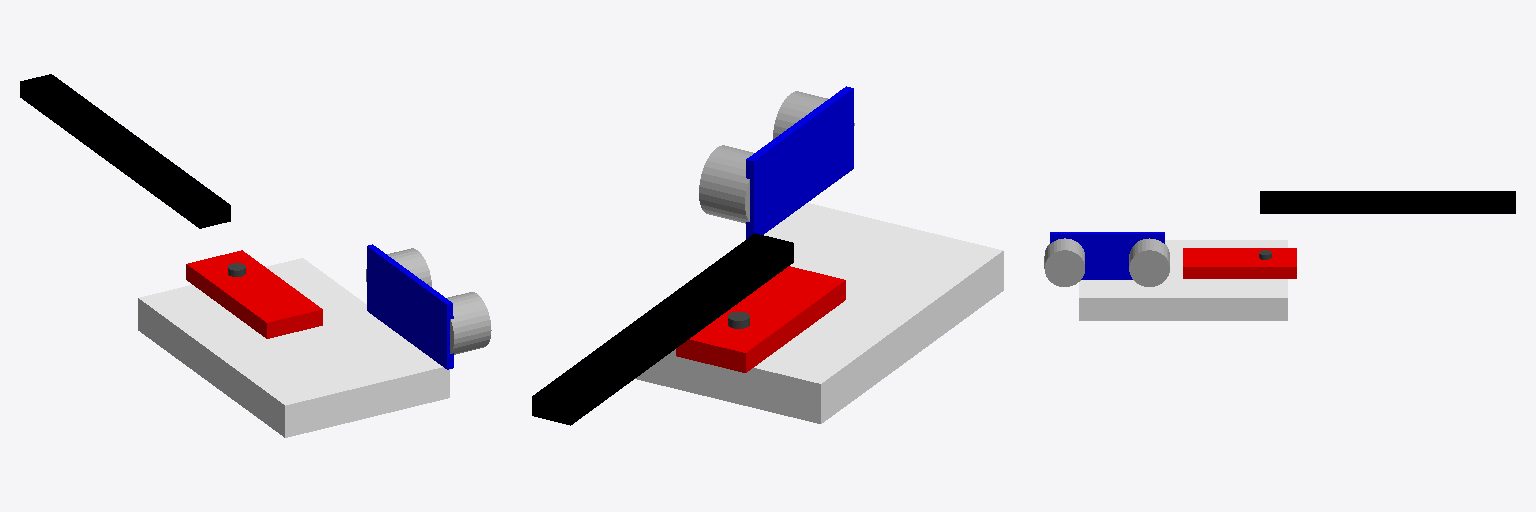
robot.urdf — robot:
<?xml version="1.0"?>
<robot name="robot">
  <link name="base_link">
    <inertial>
      <mass value="0.001"/>
      <origin xyz="0 0 0" rpy="0 0 0"/>
      <inertia ixx="1e-6" ixy="0" ixz="0" iyy="1e-6" iyz="0" izz="1e-6"/>
    </inertial>
  </link>

  <link name="breadboard_link">
    <visual>
      <origin xyz="0 0 0" rpy="0 0 0"/>
      <geometry>
        <box size="0.053 0.082 0.01"/>
      </geometry>
      <material name="white">
        <color rgba="1 1 1 1"/>
      </material>
    </visual>
    <collision>
      <origin xyz="0 0 0" rpy="0 0 0"/>
      <geometry>
        <box size="0.053 0.082 0.01"/>
      </geometry>
    </collision>
    <inertial>
      <mass value="0.05"/>
      <origin xyz="0 0 0" rpy="0 0 0"/>
      <inertia ixx="0.0001" ixy="0" ixz="0" iyy="0.0001" iyz="0" izz="0.0001"/>
    </inertial>
  </link>

  <joint name="base_to_breadboard" type="fixed">
    <parent link="base_link"/>
    <child link="breadboard_link"/>
    <origin xyz="0 0 0.005" rpy="0 0 0"/>
  </joint>

  <link name="motor_link">
    <visual>
      <origin xyz="0 0 0" rpy="0 0 1.57"/>
      <geometry>
        <mesh filename="package://mechatrobot_ros2/urdf/28BYJ-48.STL" scale="0.001 0.001 0.001" />
      </geometry>
      <material name="silver">
        <color rgba="0.75 0.75 0.75 1"/>
      </material>
    </visual>
    <collision>
      <origin xyz="0 0 0" rpy="0 0 0"/>
      <geometry>
        <cylinder radius="0.014" length="0.019"/>
      </geometry>
    </collision>
    <inertial>
      <mass value="0.03"/>
      <origin xyz="0 0 0" rpy="0 0 0"/>
      <inertia ixx="0.00001" ixy="0" ixz="0" iyy="0.00001" iyz="0" izz="0.00001"/>
    </inertial>
  </link>

  <link name="link1">
    <visual>
      <origin xyz="0 0 0" rpy="0 0 0" />
      <geometry>
        <box size="0.01 0.1 0.005"/>
      </geometry>
      <material name="black">
        <color rgba="0 0 0 1"/>
      </material>
    </visual>
    <collision>
      <origin xyz="0 0 0" rpy="0 0 0" />
      <geometry>
        <box size="0.01 0.1 0.005"/>
      </geometry>
    </collision>
    <inertial>
      <mass value="0.01"/>
      <origin xyz="0 0 0" rpy="0 0 0"/>
      <inertia ixx="0.00001" ixy="0" ixz="0" iyy="0.00001" iyz="0" izz="0.00001"/>
    </inertial>
  </link>

  <link name="range_sensor">
    <visual>
      <origin xyz="0 0 0" rpy="1.57 0 1.57" />
      <geometry>
        <box size="0.045 0.020 0.002"/>
      </geometry>
      <material name="blue">
        <color rgba="0 0 1 1"/>
      </material>
    </visual>
    <collision>
      <origin xyz="0 0 0" rpy="1.57 0 1.57" />
      <geometry>
        <box size="0.045 0.020 0.002"/>
      </geometry>
    </collision>
    <inertial>
      <mass value="0.005"/>
      <origin xyz="0 0 0" rpy="0 0 0"/>
      <inertia ixx="0.000001" ixy="0" ixz="0" iyy="0.000001" iyz="0" izz="0.000001"/>
    </inertial>
  </link>

  <link name="range_sensor_left_transducer">
    <visual>
      <origin xyz="0 0 0" rpy="0 1.57 0" />
      <geometry>
        <cylinder radius="0.008" length="0.012"/>
      </geometry>
      <material name="silver">
        <color rgba="0.75 0.75 0.75 1"/>
      </material>
    </visual>
    <collision>
      <origin xyz="0 0 0" rpy="0 1.57 0" />
      <geometry>
        <cylinder radius="0.008" length="0.012"/>
      </geometry>
    </collision>
    <inertial>
      <mass value="0.001"/>
      <origin xyz="0 0 0" rpy="0 0 0"/>
      <inertia ixx="0.0000001" ixy="0" ixz="0" iyy="0.0000001" iyz="0" izz="0.0000001"/>
    </inertial>
  </link>

  <link name="range_sensor_right_transducer">
    <visual>
      <origin xyz="0 0 0" rpy="0 1.57 0" />
      <geometry>
        <cylinder radius="0.008" length="0.012"/>
      </geometry>
      <material name="silver">
        <color rgba="0.75 0.75 0.75 1"/>
      </material>
    </visual>
    <collision>
      <origin xyz="0 0 0" rpy="0 1.57 0" />
      <geometry>
        <cylinder radius="0.008" length="0.012"/>
      </geometry>
    </collision>
    <inertial>
      <mass value="0.001"/>
      <origin xyz="0 0 0" rpy="0 0 0"/>
      <inertia ixx="0.0000001" ixy="0" ixz="0" iyy="0.0000001" iyz="0" izz="0.0000001"/>
    </inertial>
  </link>

  <link name="arduino_nano">
    <visual>
      <origin xyz="0 0 0" rpy="0 0 0" />
      <geometry>
        <box size="0.045 0.018 0.005"/>
      </geometry>
      <material name="arduino_red">
        <color rgba="1 0 0 1"/>
      </material>
    </visual>
    <collision>
      <origin xyz="0 0 0" rpy="0 0 0" />
      <geometry>
        <box size="0.045 0.018 0.005"/>
      </geometry>
    </collision>
    <inertial>
      <mass value="0.005"/>
      <origin xyz="0 0 0" rpy="0 0 0"/>
      <inertia ixx="0.000001" ixy="0" ixz="0" iyy="0.000001" iyz="0" izz="0.000001"/>
    </inertial>
  </link>

  <link name="led">
    <visual>
      <origin xyz="0 0 0" rpy="0 0 0" />
      <geometry>
        <cylinder radius="0.0025" length="0.002"/>
      </geometry>
      <material name="led_off">
        <color rgba="0.3 0.3 0.3 1"/>
      </material>
    </visual>
    <collision>
      <origin xyz="0 0 0" rpy="0 0 0" />
      <geometry>
        <cylinder radius="0.0025" length="0.002"/>
      </geometry>
    </collision>
    <inertial>
      <mass value="0.0001"/>
      <origin xyz="0 0 0" rpy="0 0 0"/>
      <inertia ixx="0.00000001" ixy="0" ixz="0" iyy="0.00000001" iyz="0" izz="0.00000001"/>
    </inertial>
  </link>

  <joint name="base_to_motor" type="fixed">
    <parent link="breadboard_link" />
    <child link="motor_link" />
    <origin xyz="0 0.08 0" rpy="0 0 0" />
  </joint>

  <joint name="base_to_sensor" type="fixed">
    <parent link="breadboard_link" />
    <child link="range_sensor" />
    <origin xyz="0.02 -0.03 0.02" />
  </joint>

  <joint name="sensor_to_left_transducer" type="fixed">
    <parent link="range_sensor" />
    <child link="range_sensor_left_transducer" />
    <origin xyz="0.006 0.0166 0" rpy="0 0 0" />
  </joint>

  <joint name="sensor_to_right_transducer" type="fixed">
    <parent link="range_sensor" />
    <child link="range_sensor_right_transducer" />
    <origin xyz="0.006 -0.0166 0" rpy="0 0 0" />
  </joint>

  <joint name="breadboard_to_arduino" type="fixed">
    <parent link="breadboard_link" />
    <child link="arduino_nano" />
    <origin xyz="0 0.022 0.0075" rpy="0 0 1.57" />
  </joint>

  <joint name="arduino_to_led" type="fixed">
    <parent link="arduino_nano" />
    <child link="led" />
    <origin xyz="0.01 0 0.0035" rpy="0 0 0" />
  </joint>

  <joint name="joint1" type="revolute">
    <axis xyz="0 0 -1"/>
    <limit effort="1000.0" lower="-3.14" upper="3.14" velocity="0.5"/>
    <origin xyz="-0.008 0 0.03" />
    <parent link="motor_link" />
    <child link="link1" />
    <dynamics damping="0.1" friction="0.1"/>
  </joint>

  <!-- Gazebo LED material -->
  <gazebo reference="led">
    <material>
      <ambient>0.3 0.3 0.3 1</ambient>
      <diffuse>0.3 0.3 0.3 1</diffuse>
      <specular>0.3 0.3 0.3 1</specular>
      <emissive>0 0 0 1</emissive>
    </material>
  </gazebo>

  <!-- Gazebo plugin for ros2_control -->
  <gazebo>
    <plugin filename="gz_ros2_control-system" name="gz_ros2_control::GazeboSimROS2ControlPlugin">
      <robot_param>robot_description</robot_param>
      <robot_param_node>robot_state_publisher</robot_param_node>
    </plugin>
  </gazebo>

  <!-- ros2_control hardware interface -->
  <ros2_control name="GazeboSimSystem" type="system">
    <hardware>
      <plugin>gz_ros2_control/GazeboSimSystem</plugin>
    </hardware>
    <joint name="joint1">
      <command_interface name="position">
        <param name="min">-3.14</param>
        <param name="max">3.14</param>
      </command_interface>
      <state_interface name="position"/>
      <state_interface name="velocity"/>
      <state_interface name="effort"/>
    </joint>
  </ros2_control>

</robot>

--- Facts derived from the render (not from the file) ---
Views: 3 orthographic renders of the robot side by side, from view 1: azimuth 30°, elevation 25°; view 2: azimuth 150°, elevation 25°; view 3: azimuth 270°, elevation 25°.
Model robot with 9 links and 8 joints (1 revolute, 7 fixed), rooted at base_link, posed every joint at zero.
Visible links, largest first — view 1: breadboard_link, link1, arduino_nano, range_sensor, range_sensor_right_transducer, range_sensor_left_transducer; view 2: breadboard_link, link1, range_sensor, arduino_nano, range_sensor_left_transducer, range_sensor_right_transducer; view 3: breadboard_link, link1, arduino_nano, range_sensor, range_sensor_left_transducer, range_sensor_right_transducer.
Link boxes in pixels (<box>): breadboard_link: <box>138,258,449,437</box>; link1: <box>20,74,230,228</box>; arduino_nano: <box>186,250,322,338</box>; range_sensor: <box>367,244,453,369</box>; range_sensor_right_transducer: <box>447,292,491,354</box>; range_sensor_left_transducer: <box>366,248,431,286</box>; breadboard_link: <box>627,203,1003,423</box>; link1: <box>532,233,793,425</box>; range_sensor: <box>746,86,853,238</box>; arduino_nano: <box>676,266,845,372</box>; range_sensor_left_transducer: <box>699,145,753,223</box>; range_sensor_right_transducer: <box>773,91,854,138</box>; breadboard_link: <box>1079,240,1287,320</box>; link1: <box>1260,191,1515,213</box>; arduino_nano: <box>1183,248,1296,278</box>; range_sensor: <box>1050,232,1164,279</box>; range_sensor_left_transducer: <box>1129,238,1169,286</box>; range_sensor_right_transducer: <box>1044,238,1084,286</box>.
Size in the robot's own frame: 0.0585 by 0.1846 by 0.0375 metres.
Meshes: 1 distinct files referenced, 0 mesh visuals loaded (none loaded); not drawn: 1 (reference not matched to a file when rendering).
